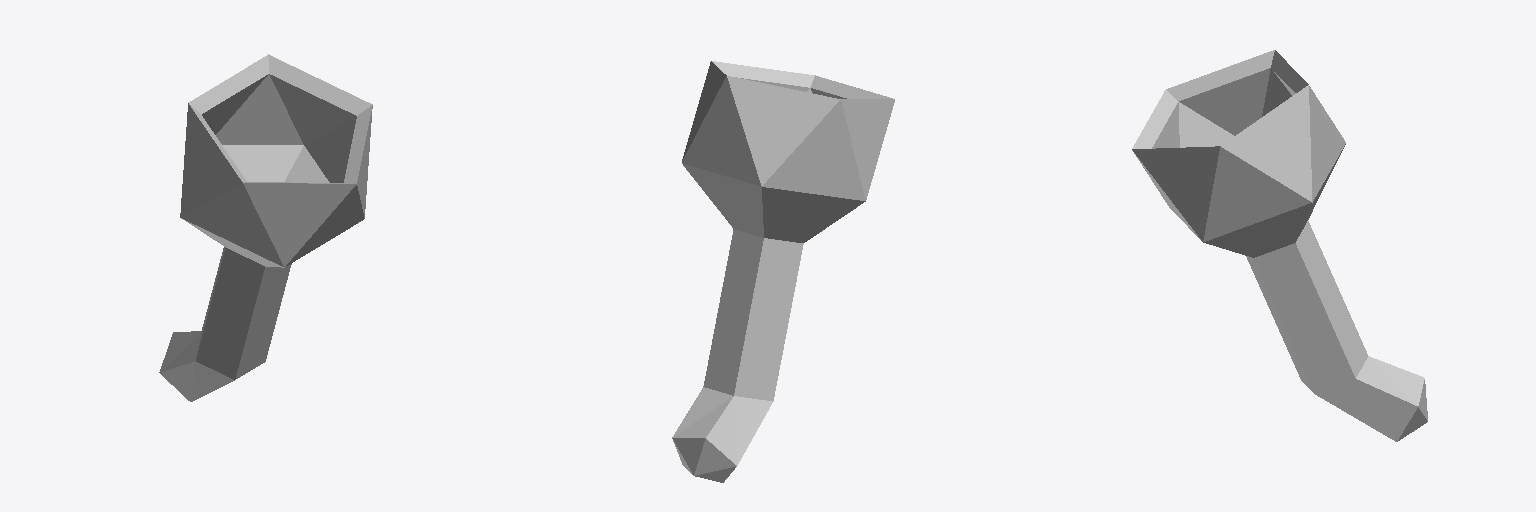
File: prop_v2_0.mtl.obj
3 views of the same model, side by side, from view 1: azimuth 30°, elevation 25°; view 2: azimuth 150°, elevation 25°; view 3: azimuth 270°, elevation 25° (orthographic).
Visible parts, largest first — view 1: prop_v2_0_Icosphere.004; view 2: prop_v2_0_Icosphere.004; view 3: prop_v2_0_Icosphere.004.
Part boxes in pixels (x1,y1,x2,y2): prop_v2_0_Icosphere.004: (159,54,372,401); prop_v2_0_Icosphere.004: (672,61,894,482); prop_v2_0_Icosphere.004: (1132,50,1427,441).
Bounding box in the file's own units: 0.1606 × 0.3256 × 0.2372.